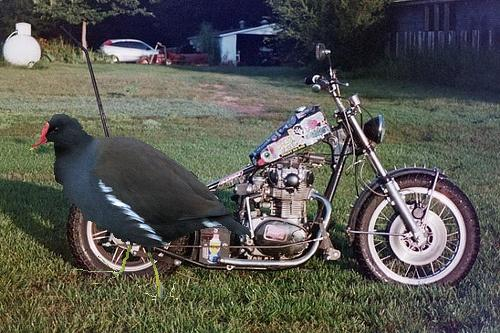tampered: (31, 115, 251, 300)
